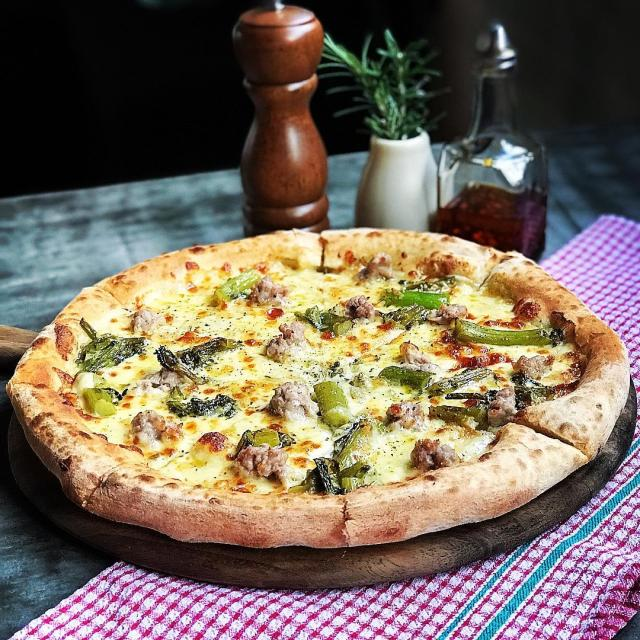basil: (444, 370, 556, 409), (148, 334, 231, 386), (163, 388, 240, 424), (296, 444, 342, 494)
pizza: (9, 229, 627, 547)
